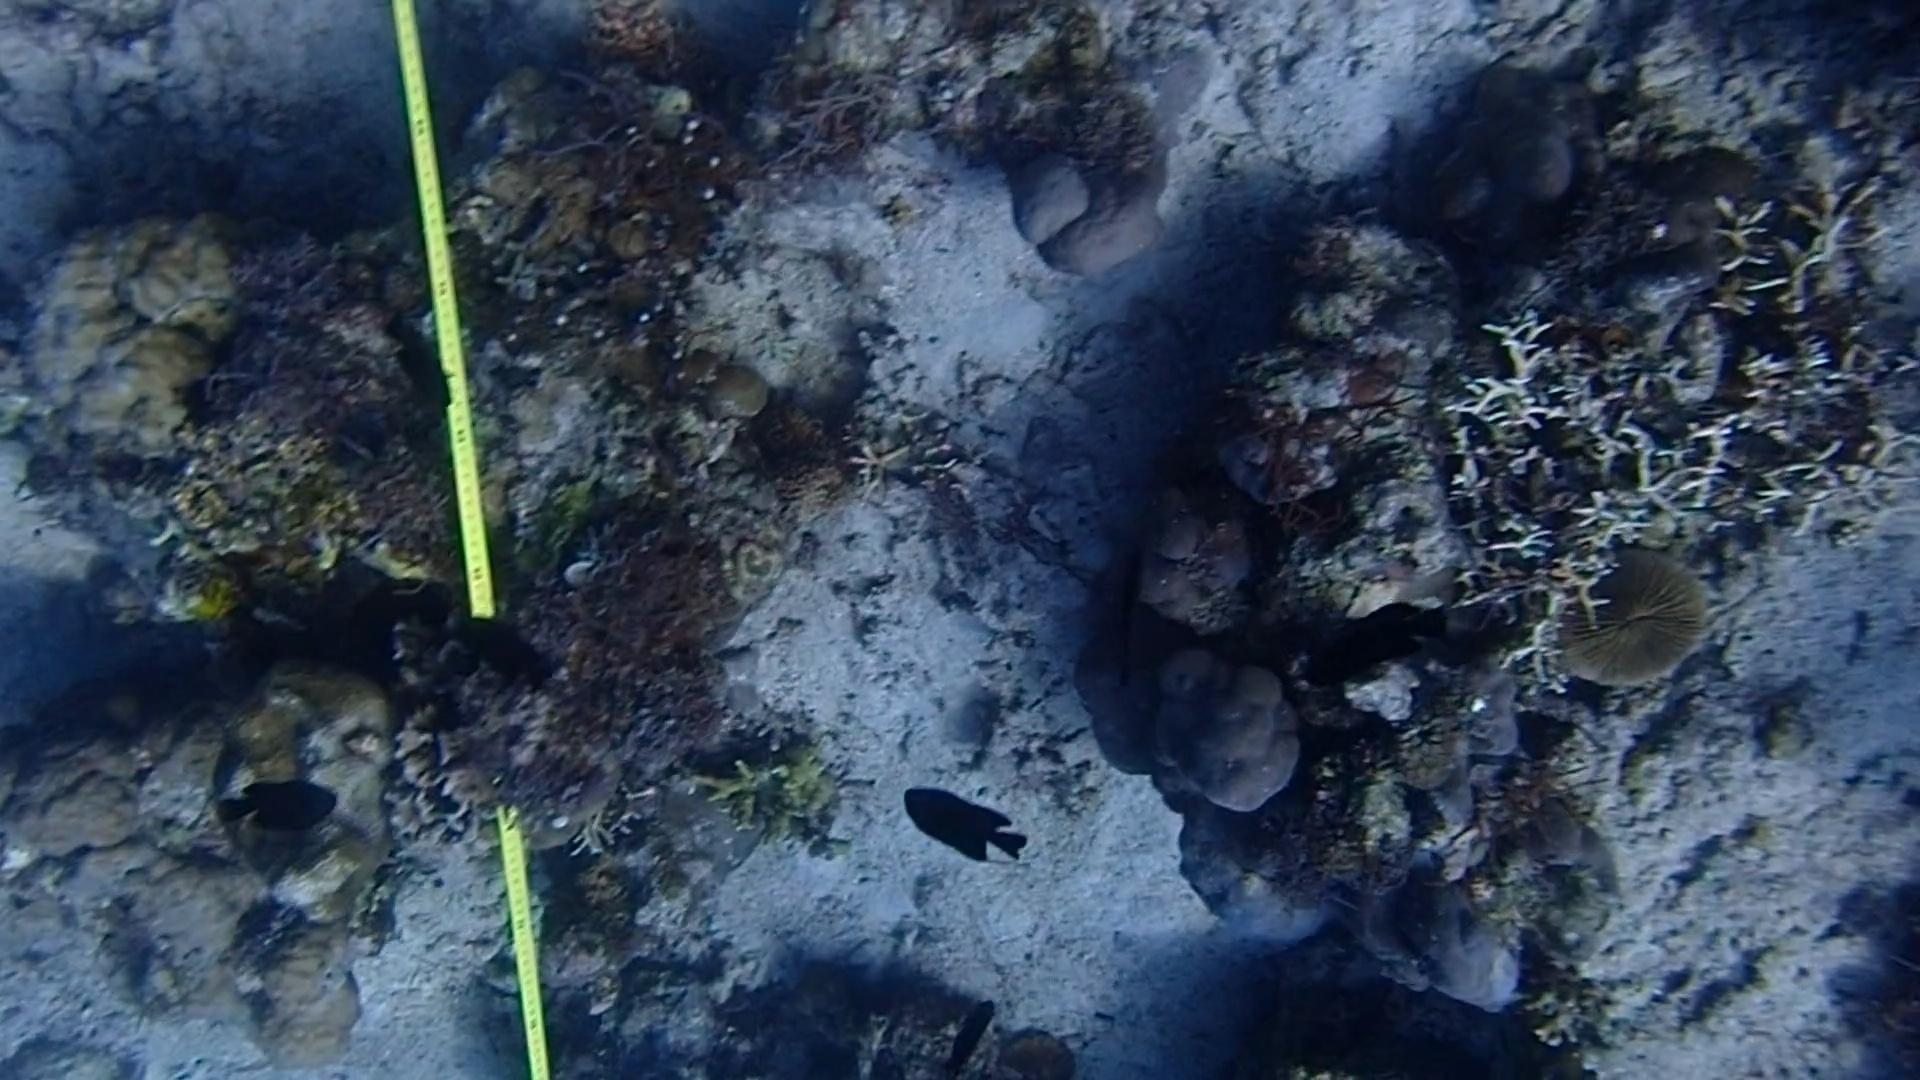Dark Fish: (891, 766, 1059, 872), (1305, 608, 1449, 687), (442, 607, 550, 707), (227, 769, 360, 847), (381, 301, 462, 419), (1093, 546, 1162, 679), (928, 993, 1000, 1075)
